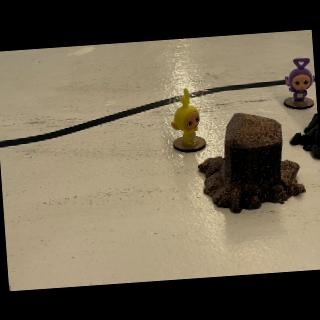teletubby: (170, 88, 199, 144), (284, 57, 314, 102)
